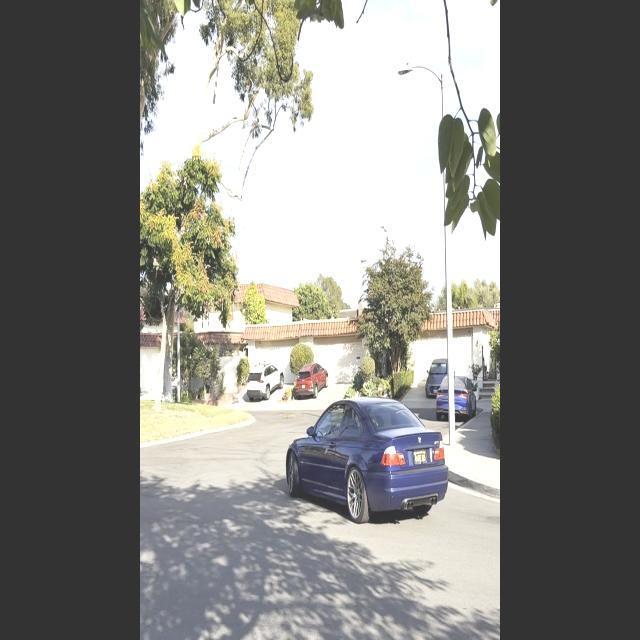Carbeetle: (271, 386, 470, 538)
Civilian: (435, 364, 478, 426), (242, 352, 286, 403), (294, 353, 332, 401), (423, 353, 454, 398)
